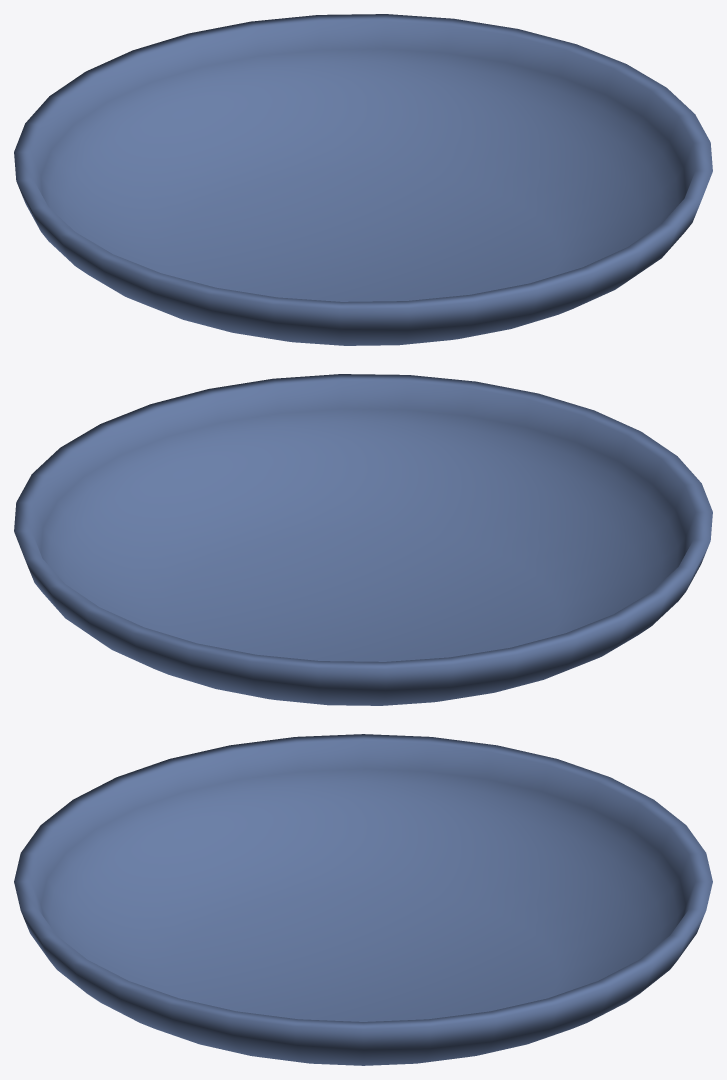
Rendered from Plate A.fbx.
The picture shows the model from 3 angles, top to bottom: view 1: azimuth 30°, elevation 25°; view 2: azimuth 150°, elevation 25°; view 3: azimuth 270°, elevation 25°; orthographic projection.
Parts seen in each view (by area): view 1: Plate; view 2: Plate; view 3: Plate.
Part boxes in pixels (left/top/right/bottom): Plate: left=14, top=14, right=712, bottom=345; Plate: left=14, top=374, right=712, bottom=705; Plate: left=14, top=734, right=712, bottom=1065.
Bounding box in the file's own units: 0.4804 × 0.0715 × 0.4804.
